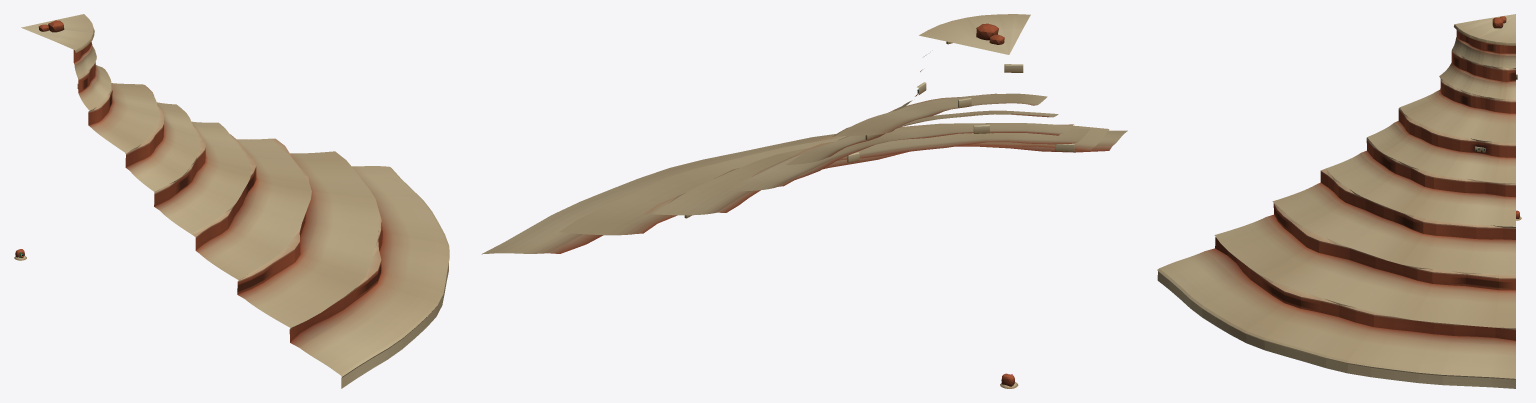
File: canyon-s2-CvP65AeT.glb
3 views of the same model, side by side, from view 1: azimuth 30°, elevation 25°; view 2: azimuth 150°, elevation 25°; view 3: azimuth 270°, elevation 25° (orthographic). The views are drawn at different scales.
Parts seen in each view (by area): view 1: sc_landmark_4; view 2: sc_landmark_4; view 3: sc_landmark_4.
Part boxes in pixels (x1=…): sc_landmark_4: x1=21, y1=14, x2=449, y2=388; sc_landmark_4: x1=481, y1=14, x2=1127, y2=254; sc_landmark_4: x1=1157, y1=14, x2=1517, y2=388.
Size of the model in its own units: 434 by 275 by 411.
